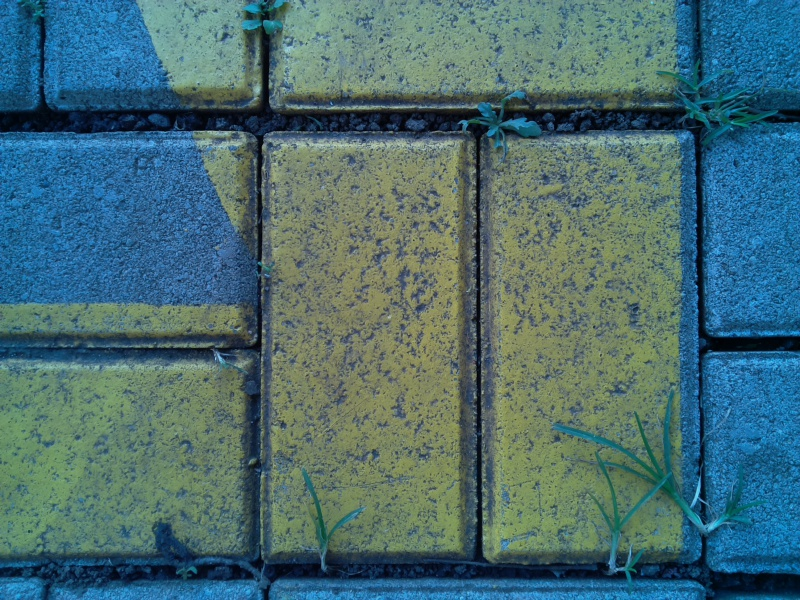Weed: (619, 411, 708, 547), (665, 62, 767, 147), (583, 483, 652, 589), (295, 485, 355, 578), (703, 480, 756, 556), (465, 96, 537, 149), (237, 1, 291, 41), (200, 338, 237, 377), (13, 1, 58, 31), (250, 255, 281, 291), (172, 559, 200, 585)
